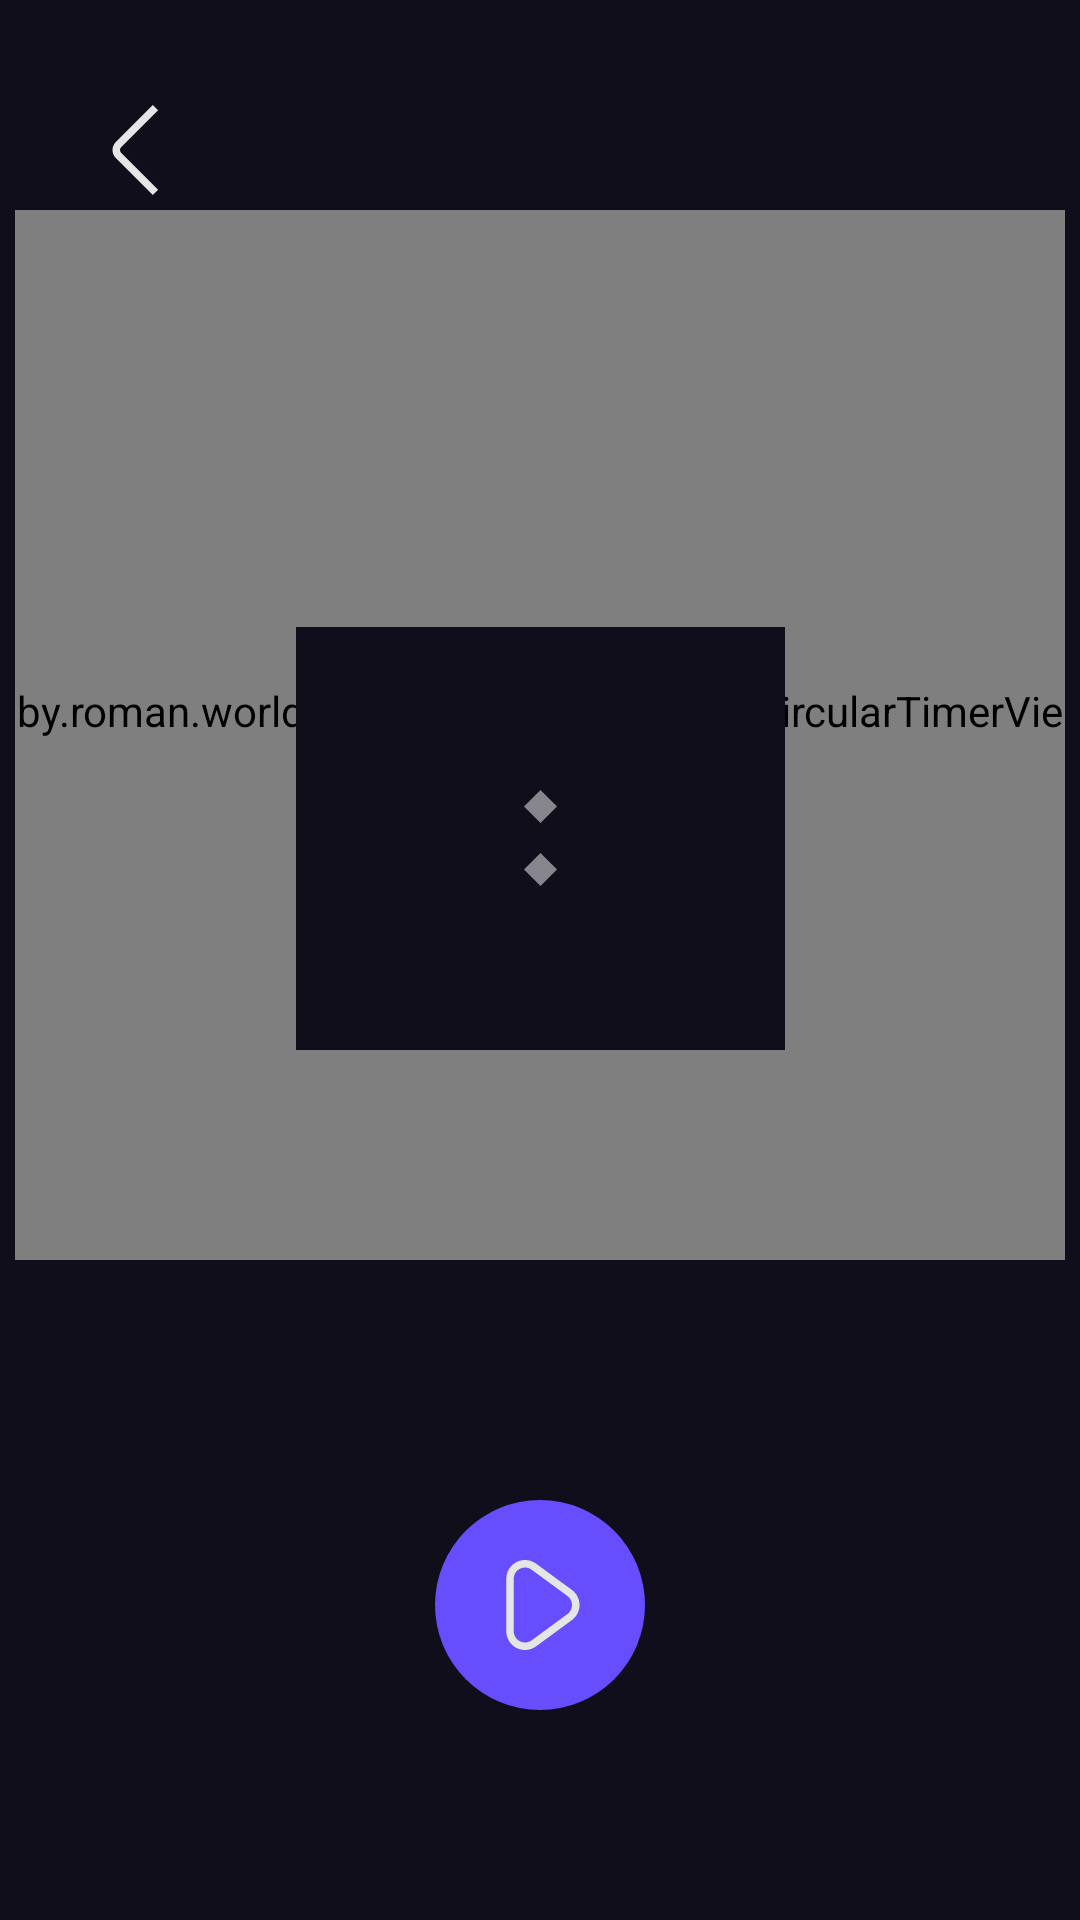

Icon click points for this 1080px×1920px phone screenshot, format (x,y):
playbutton: (540,1605)
romb: (540,838)
